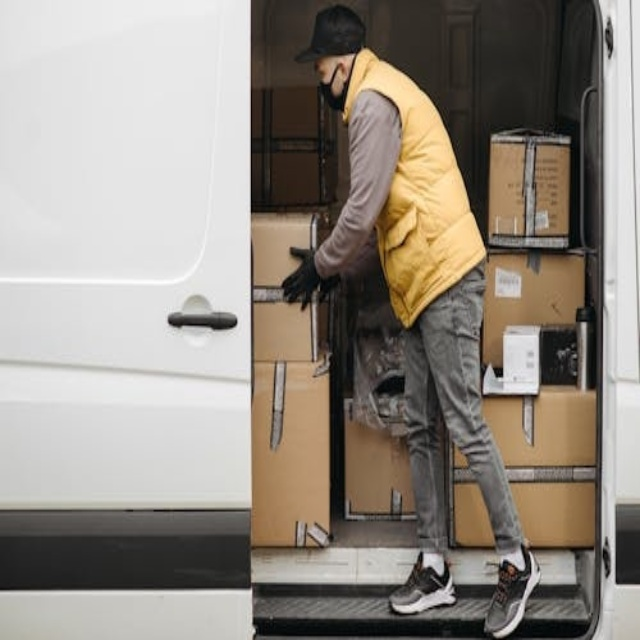Guantes: (281, 250, 335, 310)
Mascara: (320, 59, 348, 112)
Sin_gafas: (311, 46, 333, 80)
